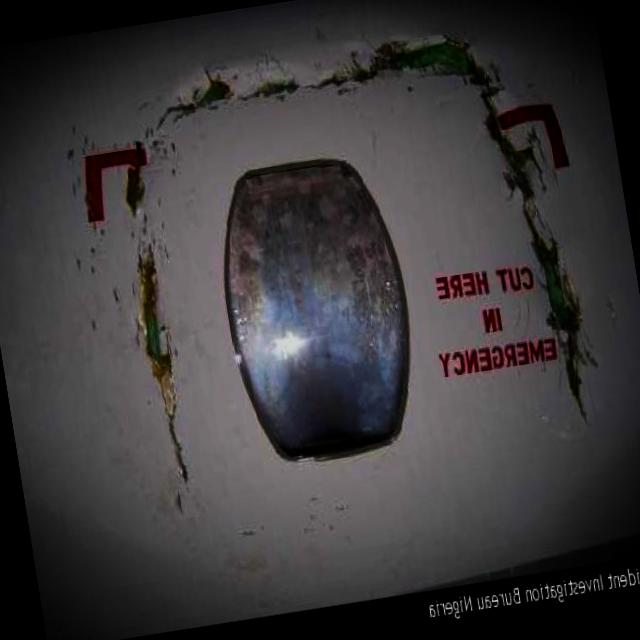crack: (146, 33, 492, 141), (521, 202, 607, 434), (128, 244, 194, 498), (477, 89, 545, 208)
